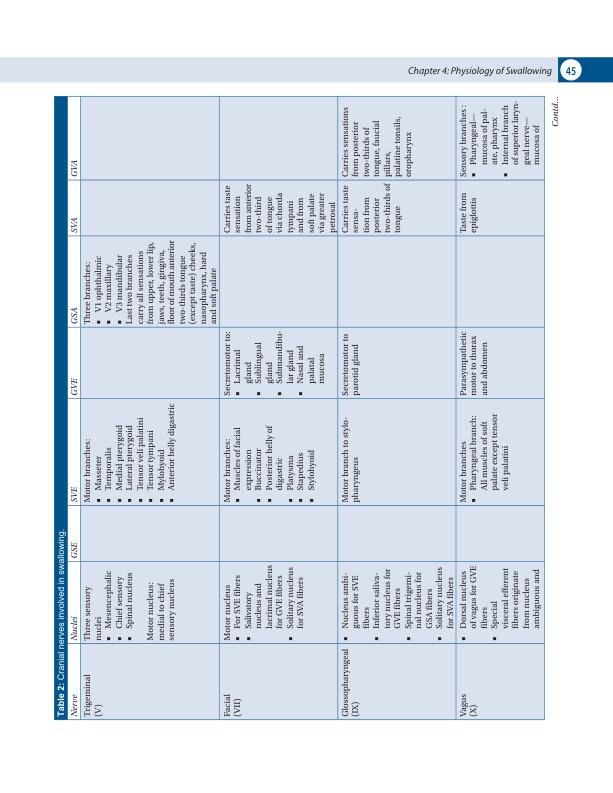caption: (55, 528, 67, 717)
header: (407, 66, 553, 77)
table: (66, 96, 559, 721)
